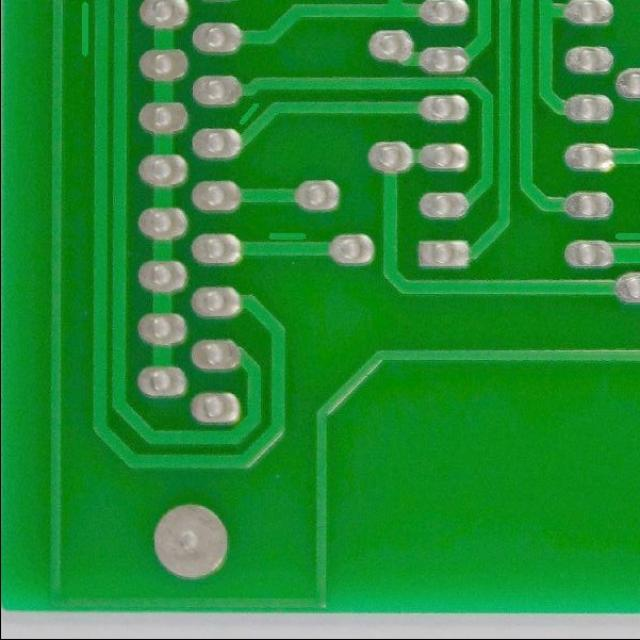spurious_copper: (66, 1, 94, 64), (231, 92, 264, 131), (261, 224, 308, 251), (610, 226, 638, 248)
